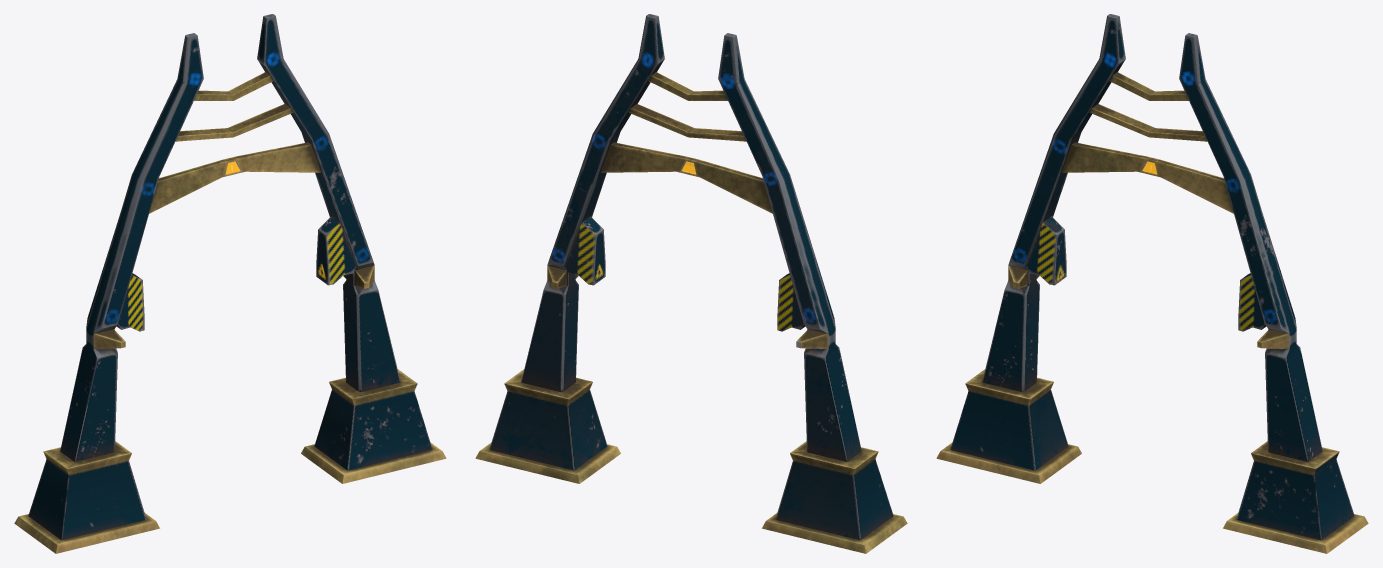
File: SM_pole_0.fbx
3 renders of one model, left to right at view 1: azimuth 30°, elevation 25°; view 2: azimuth 150°, elevation 25°; view 3: azimuth 330°, elevation 25°, orthographic.
Parts seen in each view (by area): view 1: SM_pole_0; view 2: SM_pole_0; view 3: SM_pole_0.
Part boxes in pixels (x1,y1,x2,y2): SM_pole_0: (14,14,446,553); SM_pole_0: (475,14,907,553); SM_pole_0: (936,14,1368,553).
Size of the model in its own units: 1132 by 1288 by 209.
